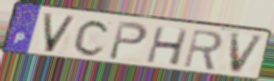C: (72, 18, 113, 58)
H: (144, 25, 191, 67)
P: (106, 20, 149, 62)
R: (181, 28, 225, 72)
V: (229, 32, 267, 75), (41, 12, 79, 55)
